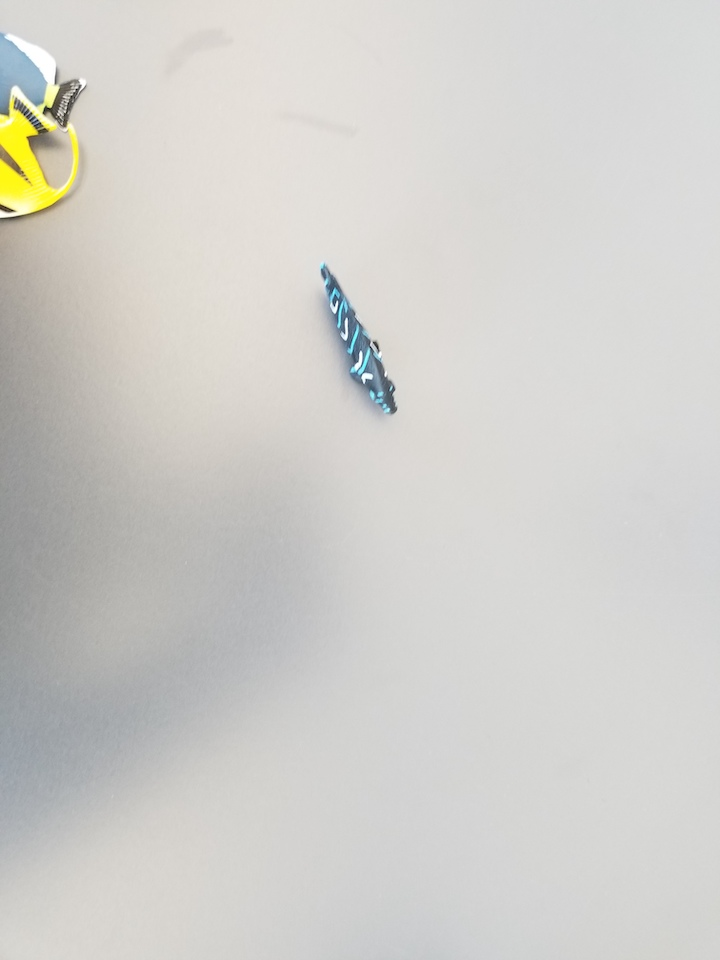danger: (1, 87, 93, 223)
fish: (315, 260, 404, 420), (1, 31, 78, 129)
